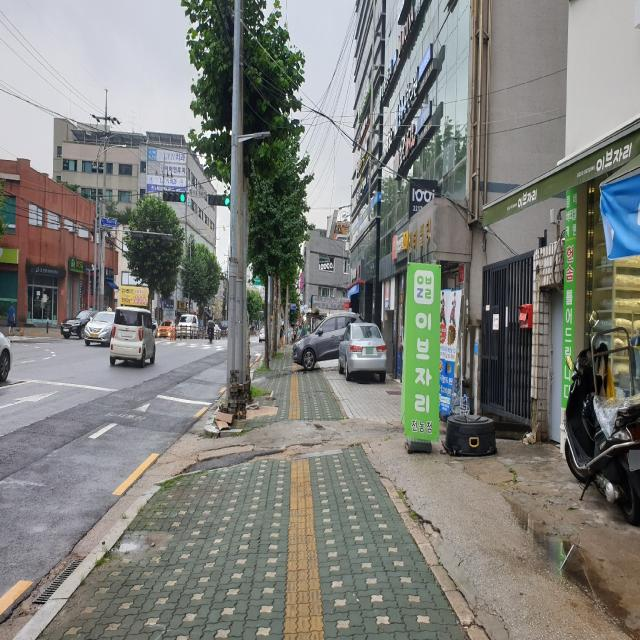car: (292, 312, 366, 370), (110, 306, 156, 368), (338, 323, 386, 382), (84, 311, 115, 346), (61, 310, 98, 339), (0, 330, 12, 384)
motorbike: (565, 310, 640, 526)
